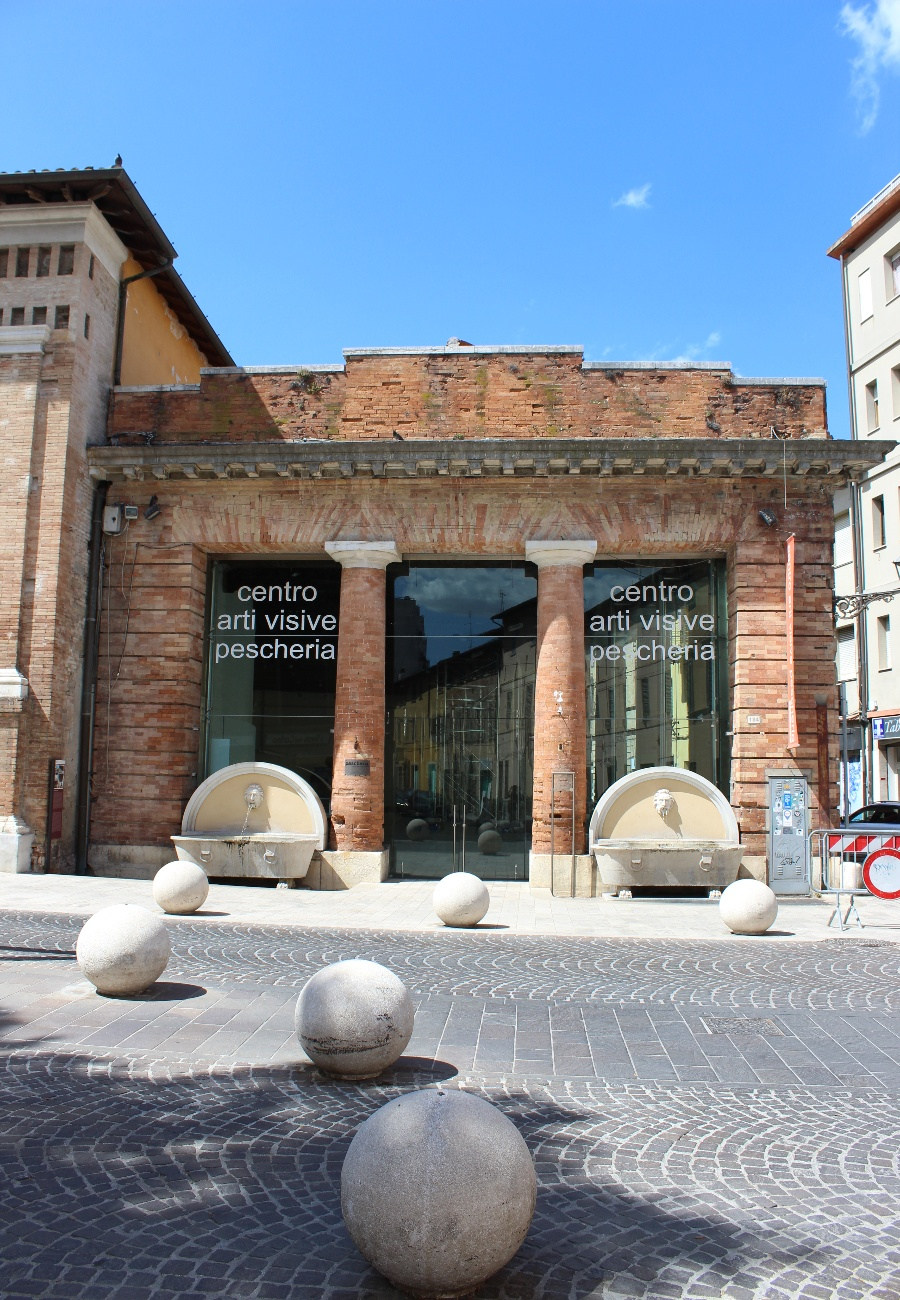Centro Arti Visive Pescheria: (98, 342, 840, 908)
